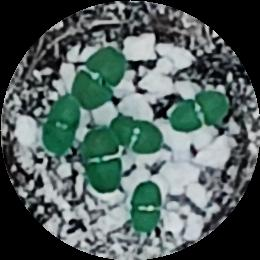Basil: (78, 43, 127, 107), (37, 94, 81, 153), (85, 129, 123, 195), (169, 92, 226, 131), (111, 116, 163, 157), (131, 183, 160, 233)
